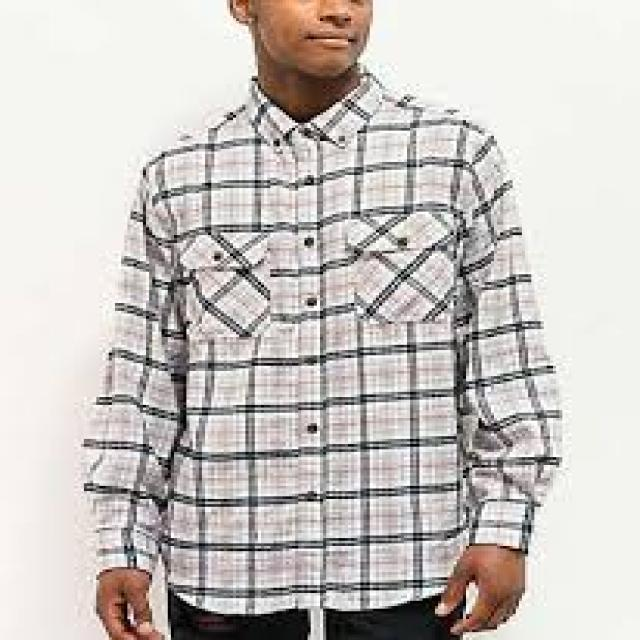plaid: (34, 76, 583, 622)
